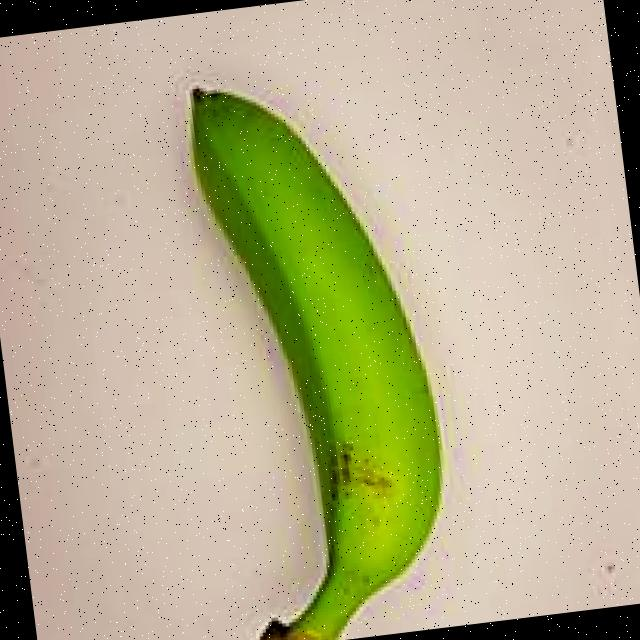Unripe: (108, 36, 521, 640)
